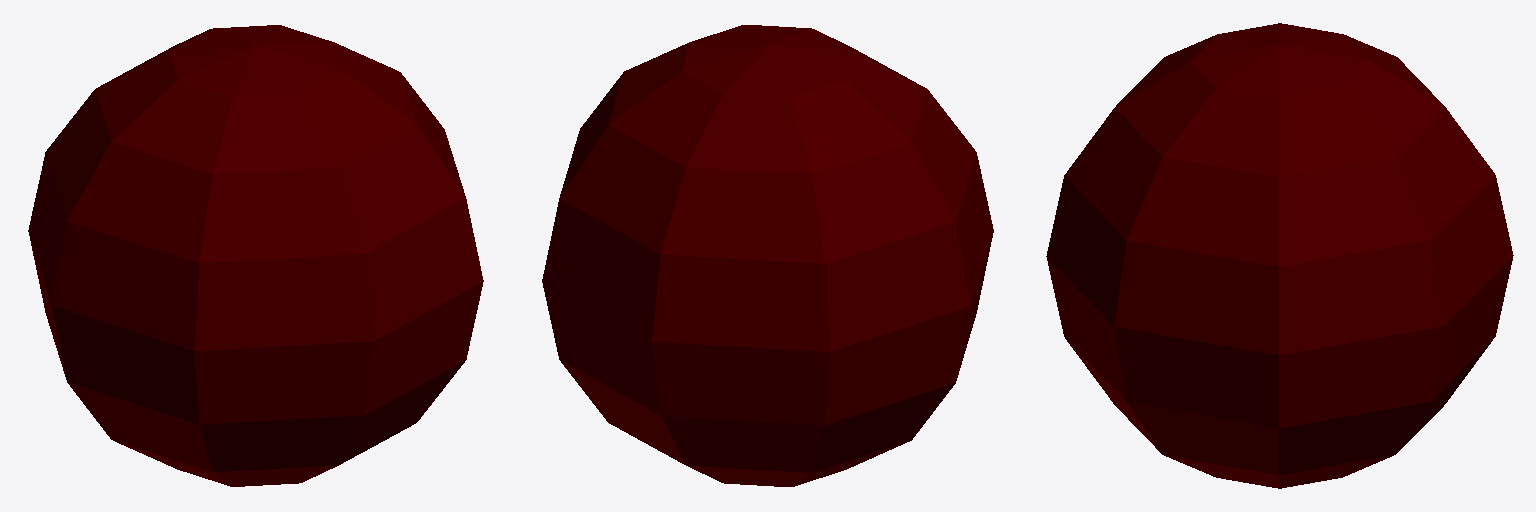
File: DynamoNucleo.obj
The picture shows the model from 3 angles: view 1: azimuth 30°, elevation 25°; view 2: azimuth 150°, elevation 25°; view 3: azimuth 270°, elevation 25°; orthographic projection.
Visible parts, largest first — view 1: Sphere.003_Sphere.005; view 2: Sphere.003_Sphere.005; view 3: Sphere.003_Sphere.005.
Part boxes in pixels (x1,y1,x2,y2): Sphere.003_Sphere.005: (28,25,483,486); Sphere.003_Sphere.005: (542,25,993,486); Sphere.003_Sphere.005: (1046,23,1513,488).
Bounding box in the file's own units: 1.27 × 1.25 × 1.26.